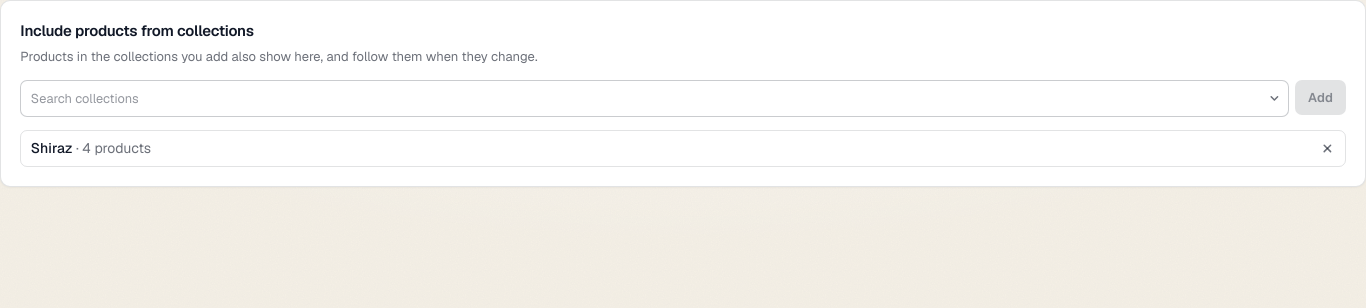
IncludeCollectionsPicker › shows added collections ticked and disabled
The width and height of the screenshot is (1366, 308).
Focus the dropdown at x=655, y=98, box [20,80,1289,117]
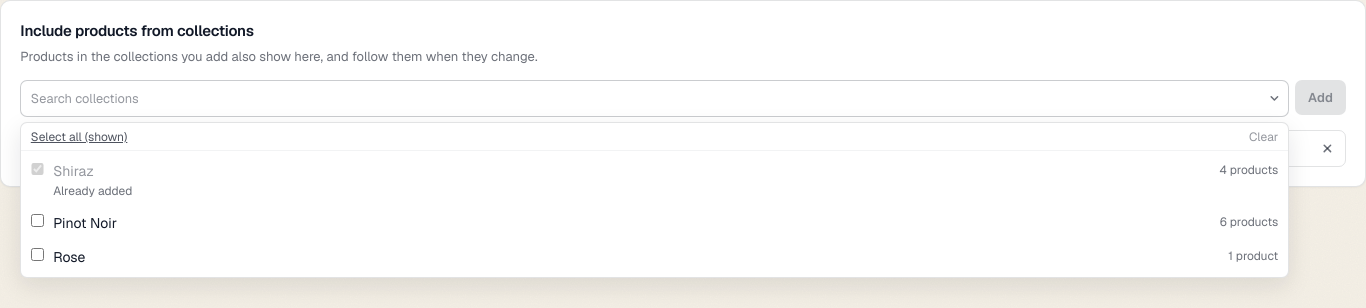
Result: the checkbox labelled "Shiraz Already added 4 products" is checked at [31,162,44,175]
Result: the checkbox labelled "Shiraz Already added 4 products" is disabled at [31,162,44,175]
Result: the text "Already added" is shown at [53,183,132,199]
